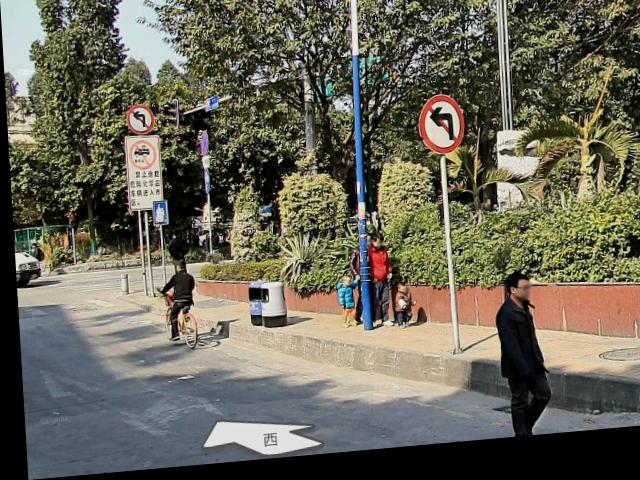not_turn_left: (413, 99, 464, 165), (124, 105, 158, 138)
